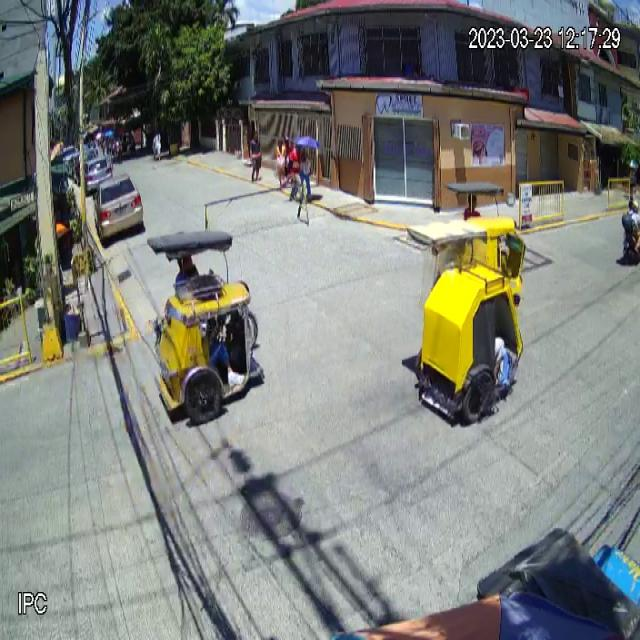Car: (93, 173, 145, 244)
Tricycle: (402, 217, 524, 425), (147, 230, 263, 423)
